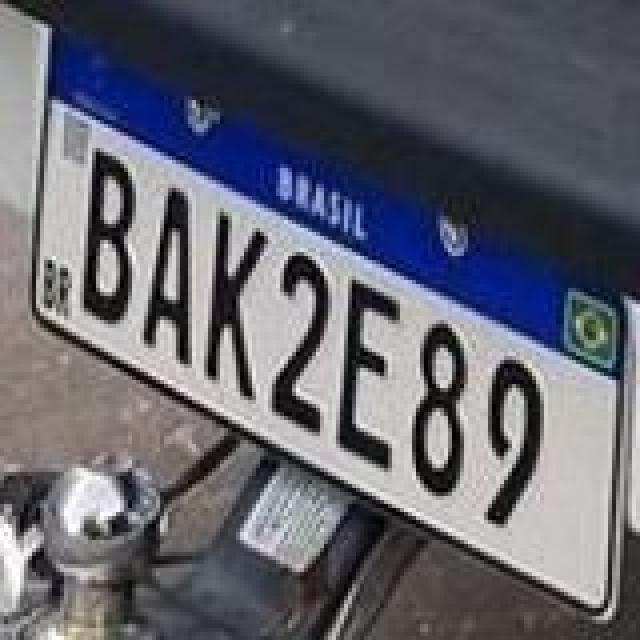2: (268, 252, 332, 436)
8: (410, 320, 470, 496)
9: (484, 356, 548, 532)
A: (140, 184, 196, 368)
B: (84, 150, 140, 330)
E: (334, 276, 402, 476)
K: (204, 208, 268, 400)
